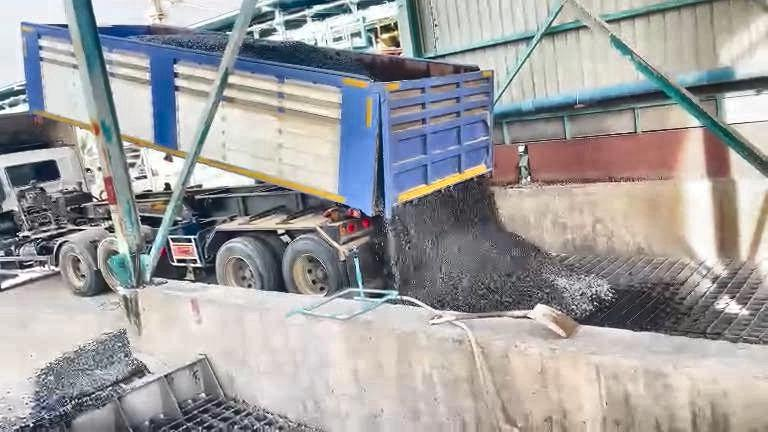gravel: (386, 179, 613, 318), (1, 330, 147, 430), (240, 37, 380, 79), (132, 33, 227, 53)
